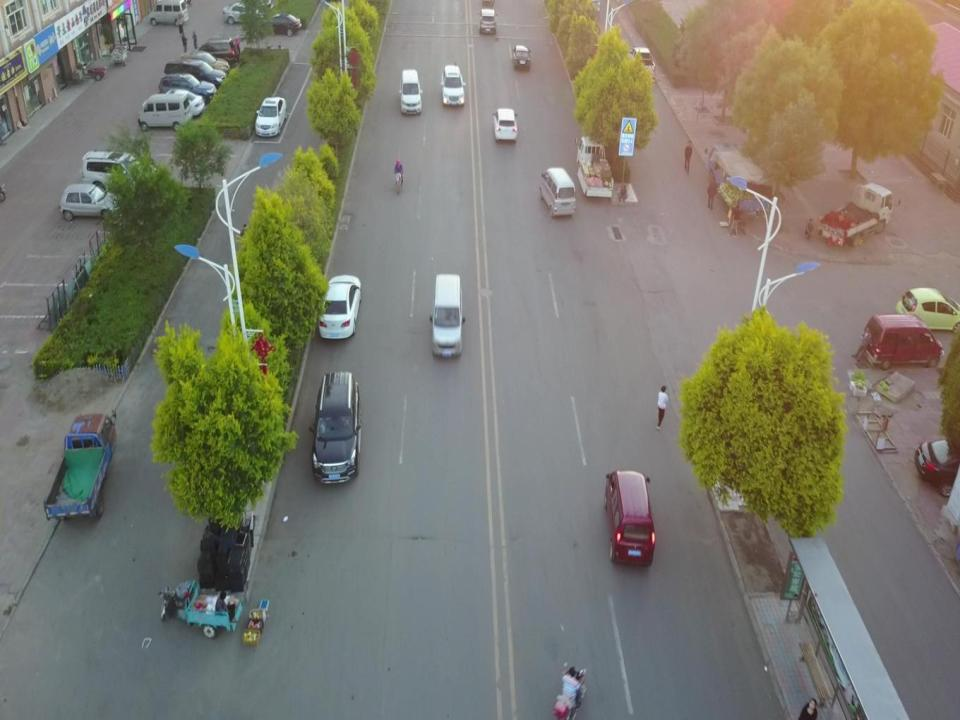car: (310, 372, 362, 484), (896, 288, 960, 334), (318, 275, 360, 340), (914, 439, 960, 496), (60, 184, 122, 219), (157, 74, 217, 102), (193, 35, 246, 66), (152, 88, 204, 115), (254, 96, 287, 136), (179, 52, 230, 74), (399, 68, 423, 113), (440, 64, 466, 105), (257, 14, 301, 36), (223, 2, 263, 24), (493, 108, 518, 141), (512, 44, 532, 69), (478, 8, 497, 33)
truck: (41, 408, 118, 522), (819, 182, 901, 246), (574, 136, 614, 198), (628, 45, 656, 83)
van: (604, 468, 656, 566), (862, 314, 944, 371), (80, 150, 158, 194), (429, 273, 465, 359), (138, 94, 193, 131), (540, 166, 575, 218), (164, 59, 226, 86), (148, 0, 188, 25)
